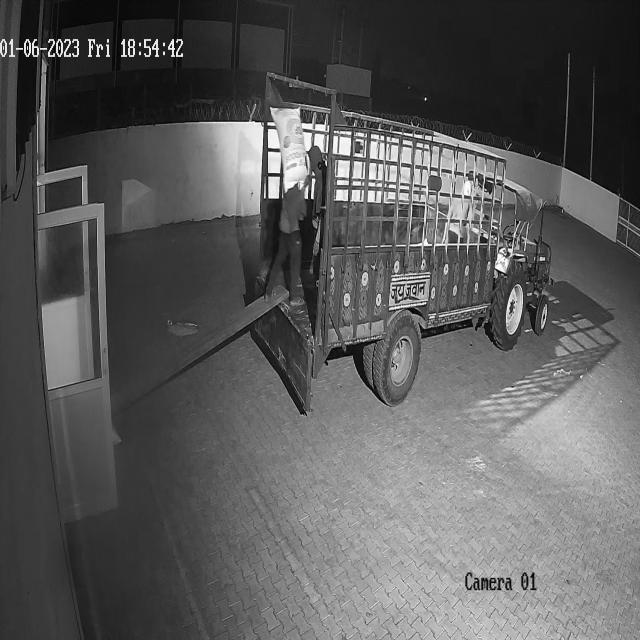sack: (270, 106, 307, 194)
